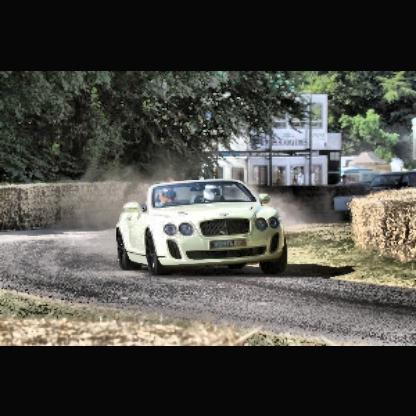Bentley Continental Supersports Conv- Convertible 2012: (116, 176, 293, 280)
